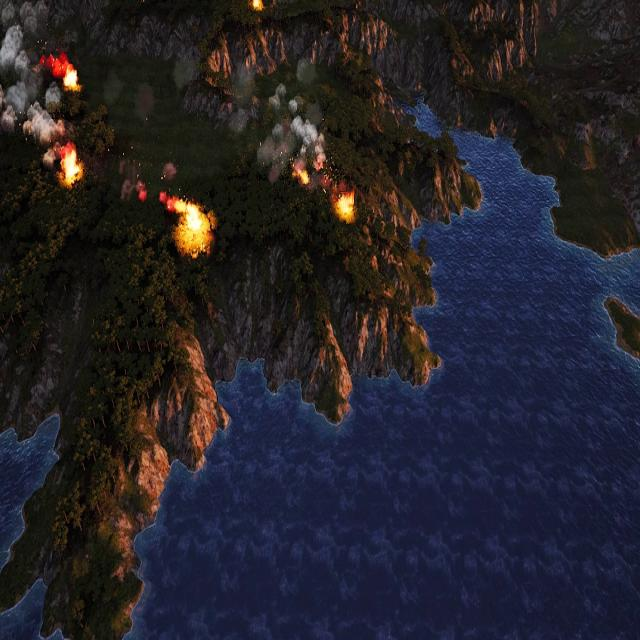fire: (168, 194, 213, 250), (46, 52, 82, 93), (62, 148, 83, 183), (338, 195, 356, 220), (296, 168, 310, 185), (252, 0, 265, 12)
smoke: (0, 13, 63, 147), (260, 80, 326, 181)
